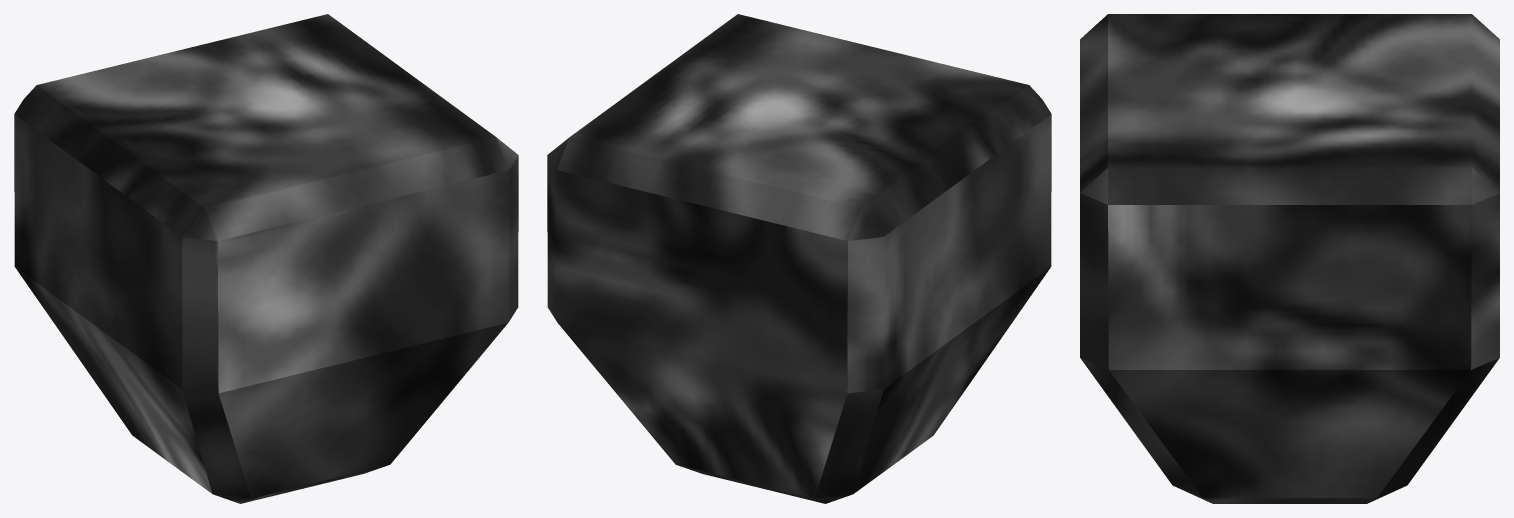
Rendered from AssemblyBlockPartsA_bake.dae.
The picture shows the model from 3 angles, left to right: view 1: azimuth 30°, elevation 25°; view 2: azimuth 150°, elevation 25°; view 3: azimuth 270°, elevation 25°; orthographic projection. The views are drawn at different scales.
Visible parts, largest first — view 1: m3; view 2: m3; view 3: m3.
Part boxes in pixels (<box>): m3: <box>14,14,518,503</box>; m3: <box>547,14,1051,503</box>; m3: <box>1080,14,1499,503</box>.
Size of the model in its own units: 300 by 300 by 300.
5 materials, 5 textured.
